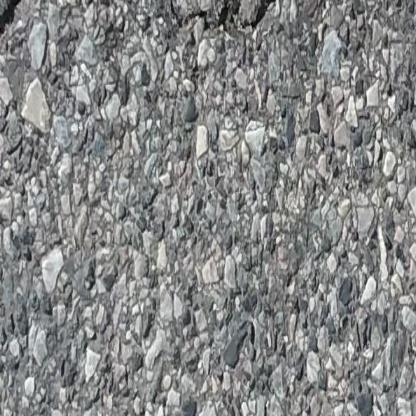Cracks: (217, 0, 281, 47), (0, 0, 35, 41)
